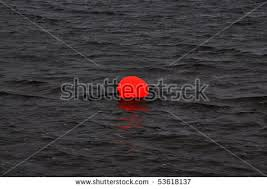buoy: (115, 75, 151, 101)
